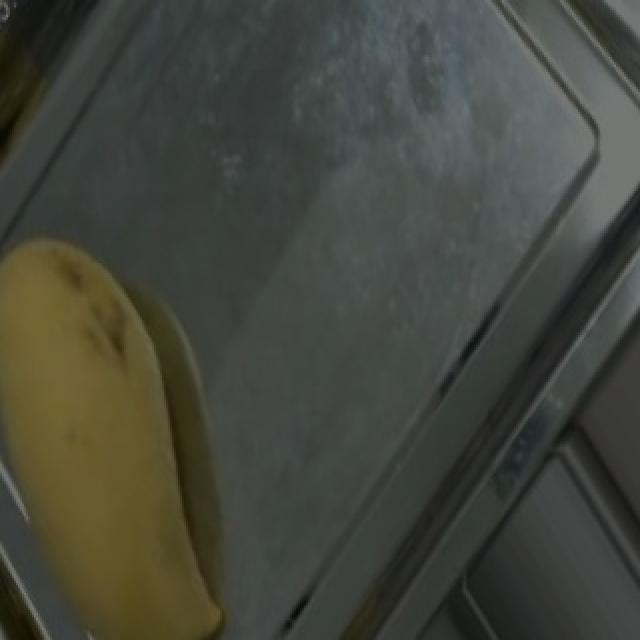fruit: (0, 203, 258, 593)
